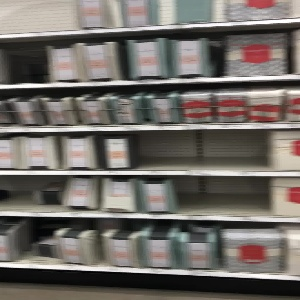void: (132, 130, 270, 171), (170, 175, 270, 218), (1, 1, 76, 33), (1, 38, 48, 85), (1, 176, 67, 209), (18, 220, 55, 265)
